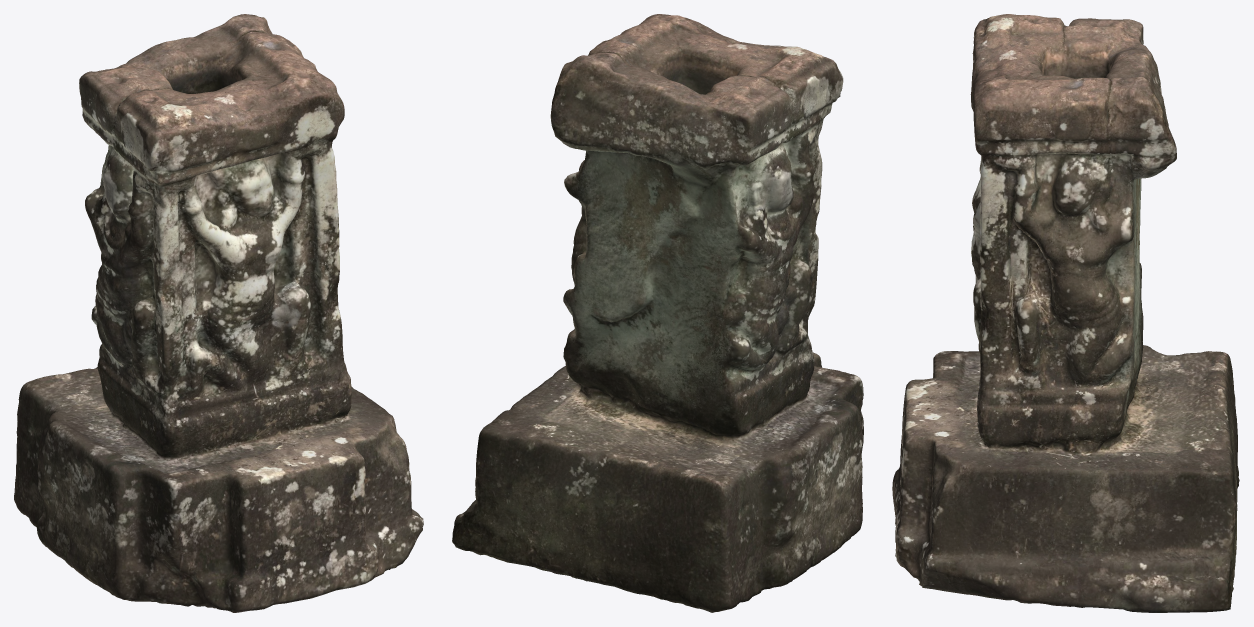
Rendered from 25_MysonSanctuaryD_Nguoidotru_final.glb.
3 views of the same model, side by side, from view 1: azimuth 30°, elevation 25°; view 2: azimuth 150°, elevation 25°; view 3: azimuth 270°, elevation 25° (orthographic).
Size of the model in its own units: 0.688 by 1.03 by 0.6661.
Materials: 1 (1 with a texture image).
